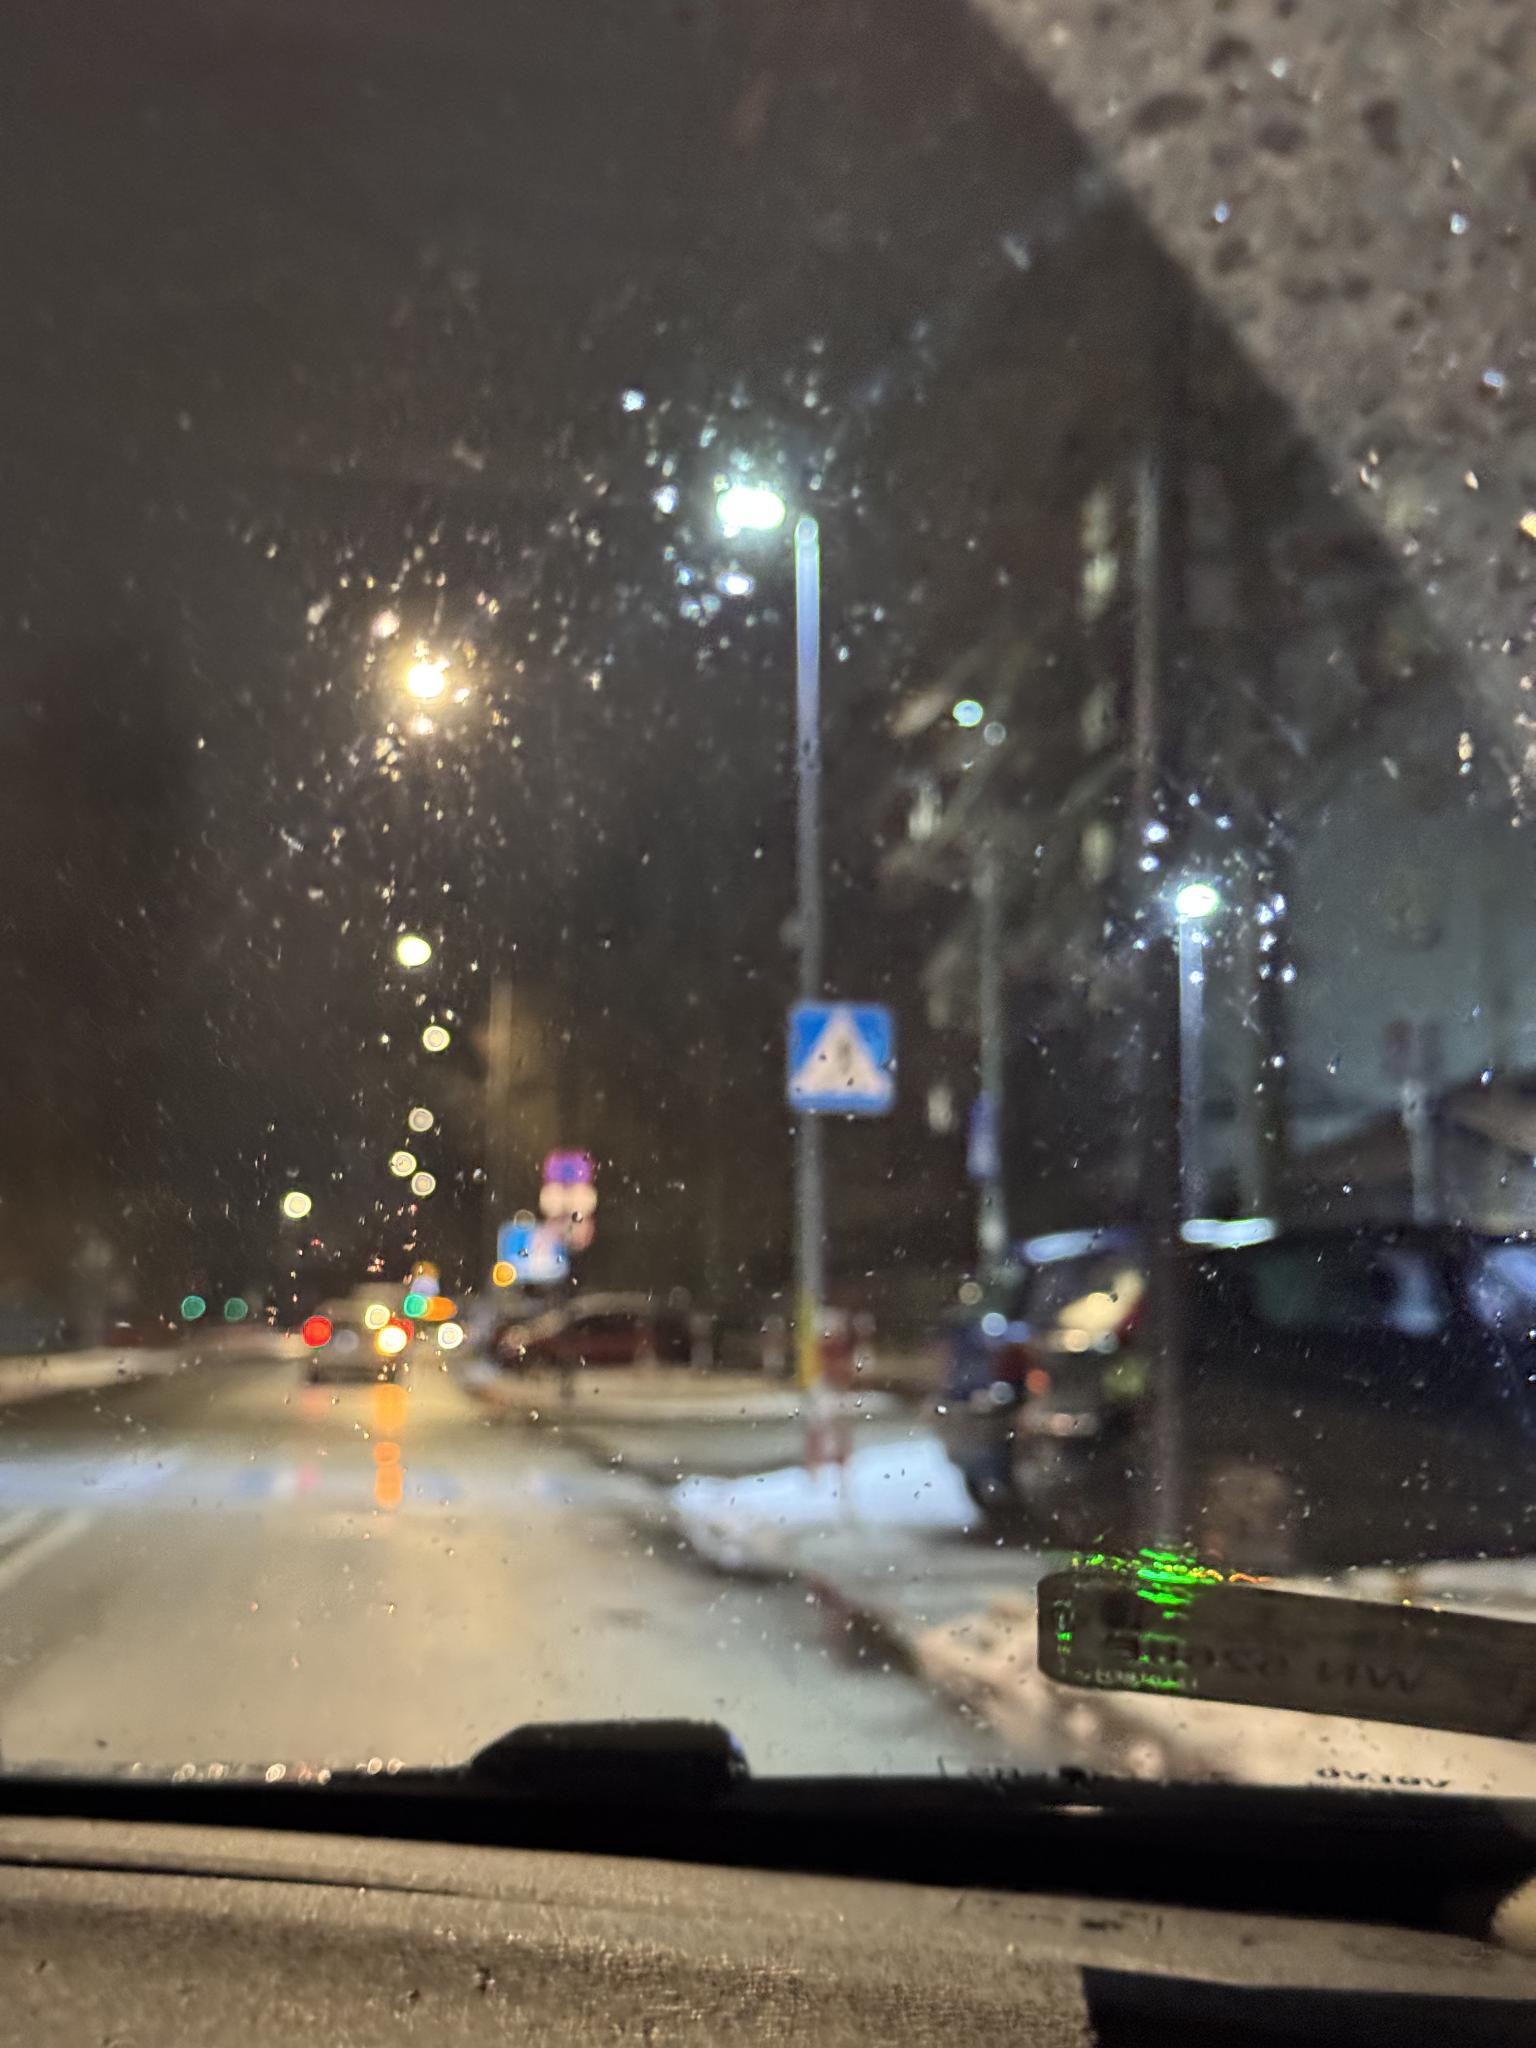information: (787, 1003, 899, 1114)
